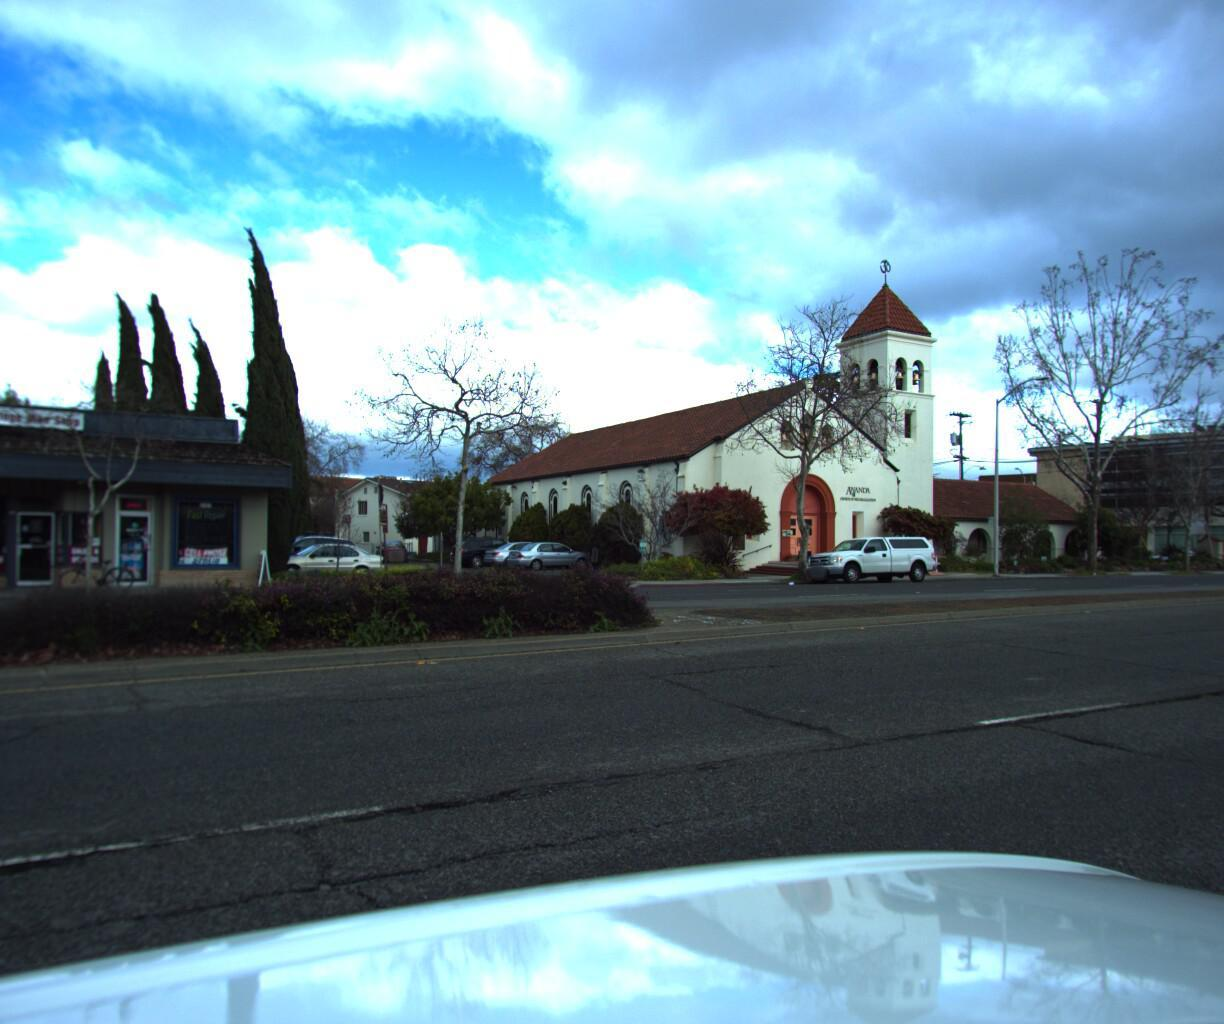bicycle: (68, 554, 139, 592)
car: (790, 527, 939, 584), (245, 537, 392, 587), (229, 531, 369, 580), (1214, 541, 1224, 560)
